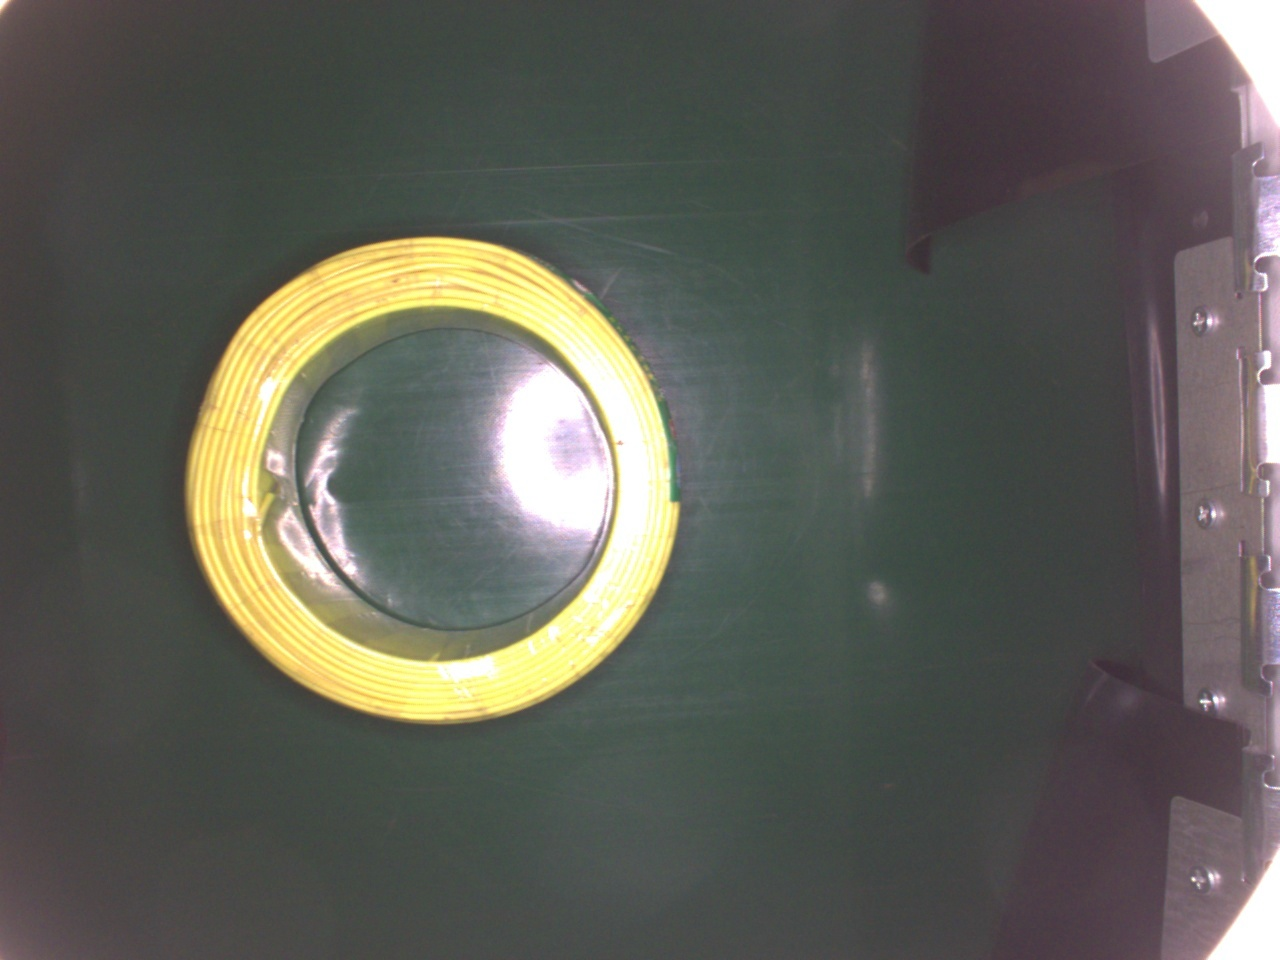yellow: (182, 231, 682, 726)
